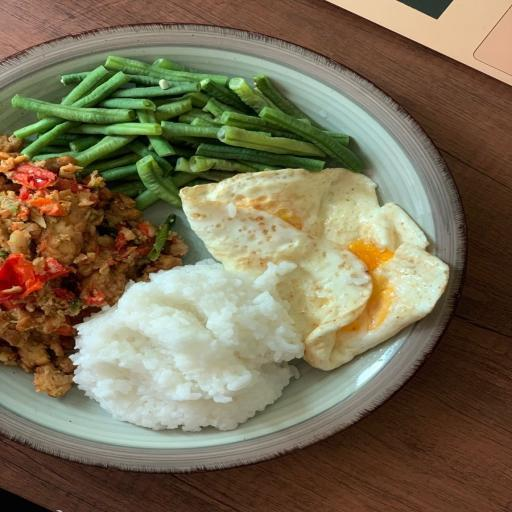buncis_rebus: (7, 56, 369, 182)
nasi_putih: (72, 258, 305, 438)
